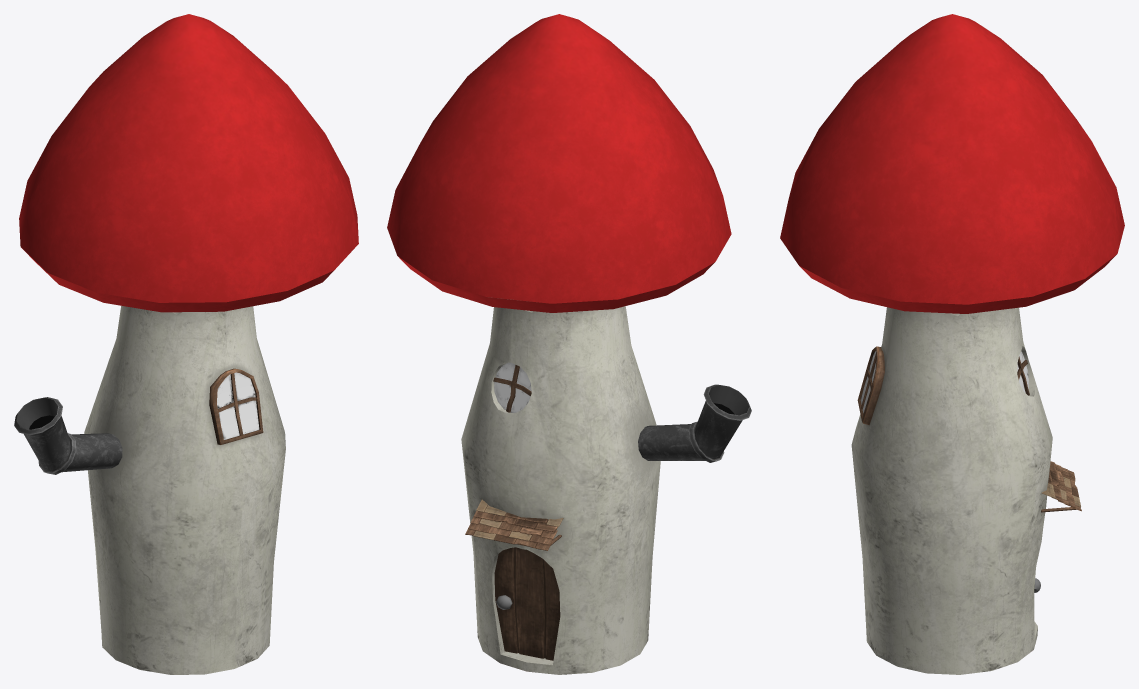
3 renders of one model, left to right at view 1: azimuth 30°, elevation 25°; view 2: azimuth 150°, elevation 25°; view 3: azimuth 270°, elevation 25°, orthographic.
Visible parts, largest first — view 1: Mush_Building_3; view 2: Mush_Building_3; view 3: Mush_Building_3.
Part boxes in pixels (bbox=[...]): Mush_Building_3: bbox=[14, 14, 358, 674]; Mush_Building_3: bbox=[387, 14, 751, 674]; Mush_Building_3: bbox=[780, 14, 1124, 674].
Size of the model in its own units: 1.1 by 2 by 0.9977.
1 material, 1 textured.
